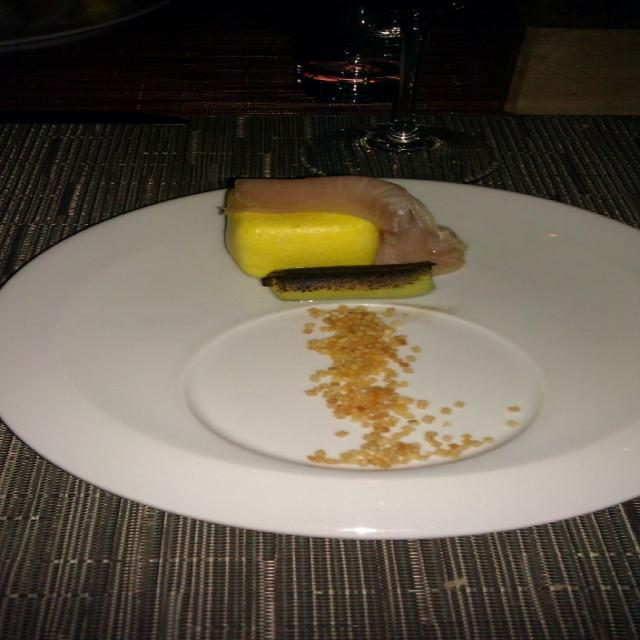non-organic waste: (3, 177, 640, 536)
